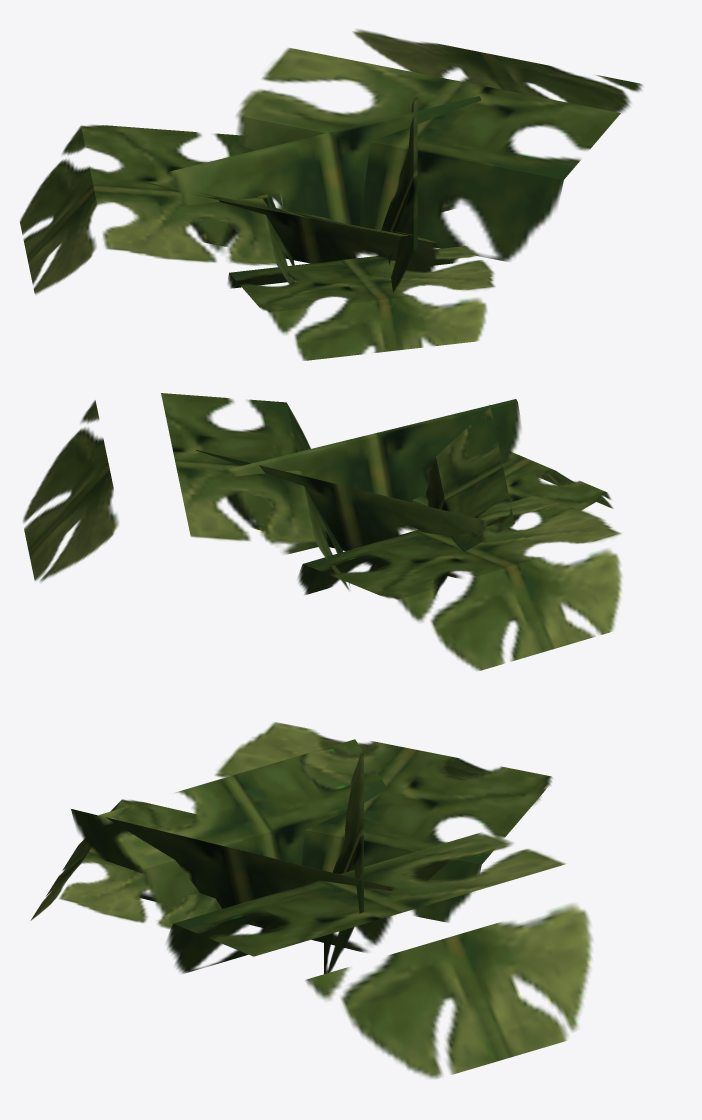
File: lp_bush_b_stem.glb
The picture shows the model from 3 angles, top to bottom: view 1: azimuth 30°, elevation 25°; view 2: azimuth 150°, elevation 25°; view 3: azimuth 270°, elevation 25°; orthographic projection. The views are drawn at different scales.
Visible parts, largest first — view 1: lp_bush_b_mid; view 2: lp_bush_b_mid; view 3: lp_bush_b_mid.
Boxes of the visible parts, x1,y1,x2,y2 form: lp_bush_b_mid: (20,29,642,360); lp_bush_b_mid: (23,393,622,670); lp_bush_b_mid: (30,722,592,1078).
Bounding box in the file's own units: 0.7384 × 0.0912 × 0.606.
Materials: 1 (1 with a texture image).
